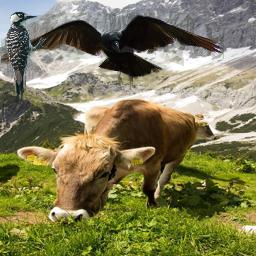Crow: (1, 13, 224, 90)
Woodpecker: (4, 11, 49, 101)
